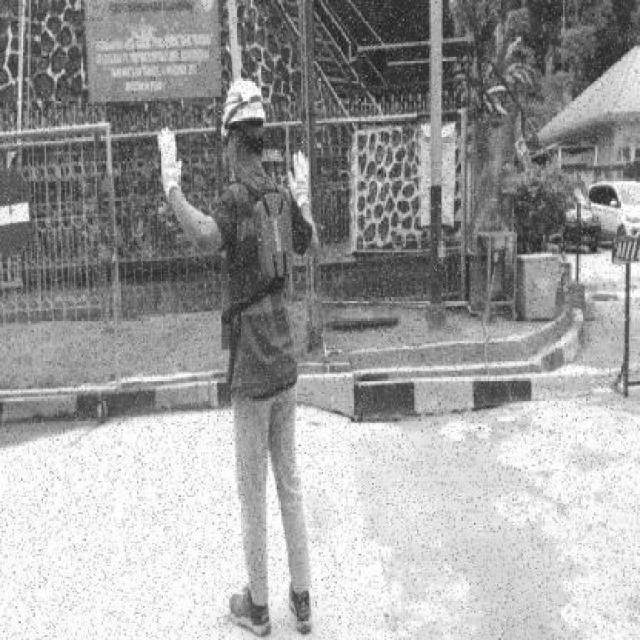Boots: (228, 583, 272, 635), (288, 574, 314, 634)
Gloves: (152, 122, 185, 203), (286, 146, 312, 212)
Helmet: (219, 77, 270, 128)
Vest: (221, 189, 297, 376)
